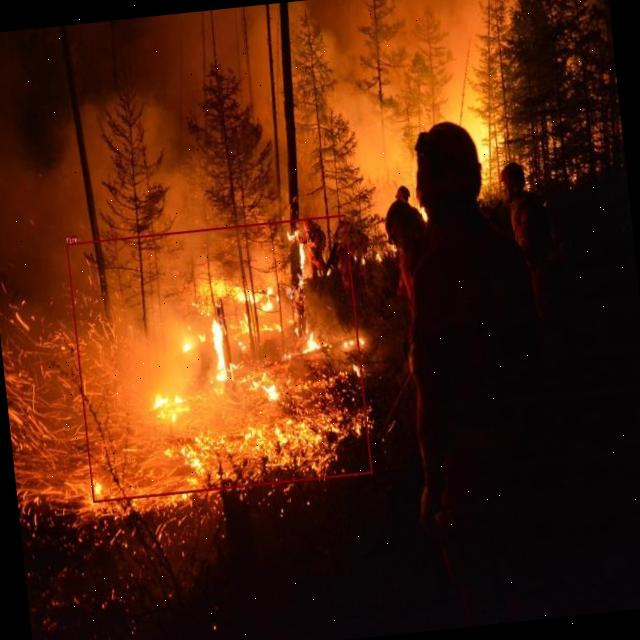fire: (65, 214, 372, 502)
